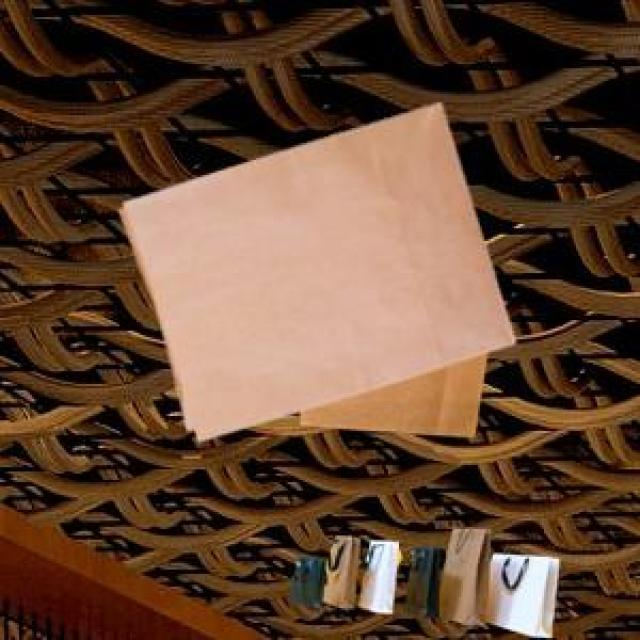PaperCardboard: (116, 99, 510, 440), (287, 529, 557, 636)
